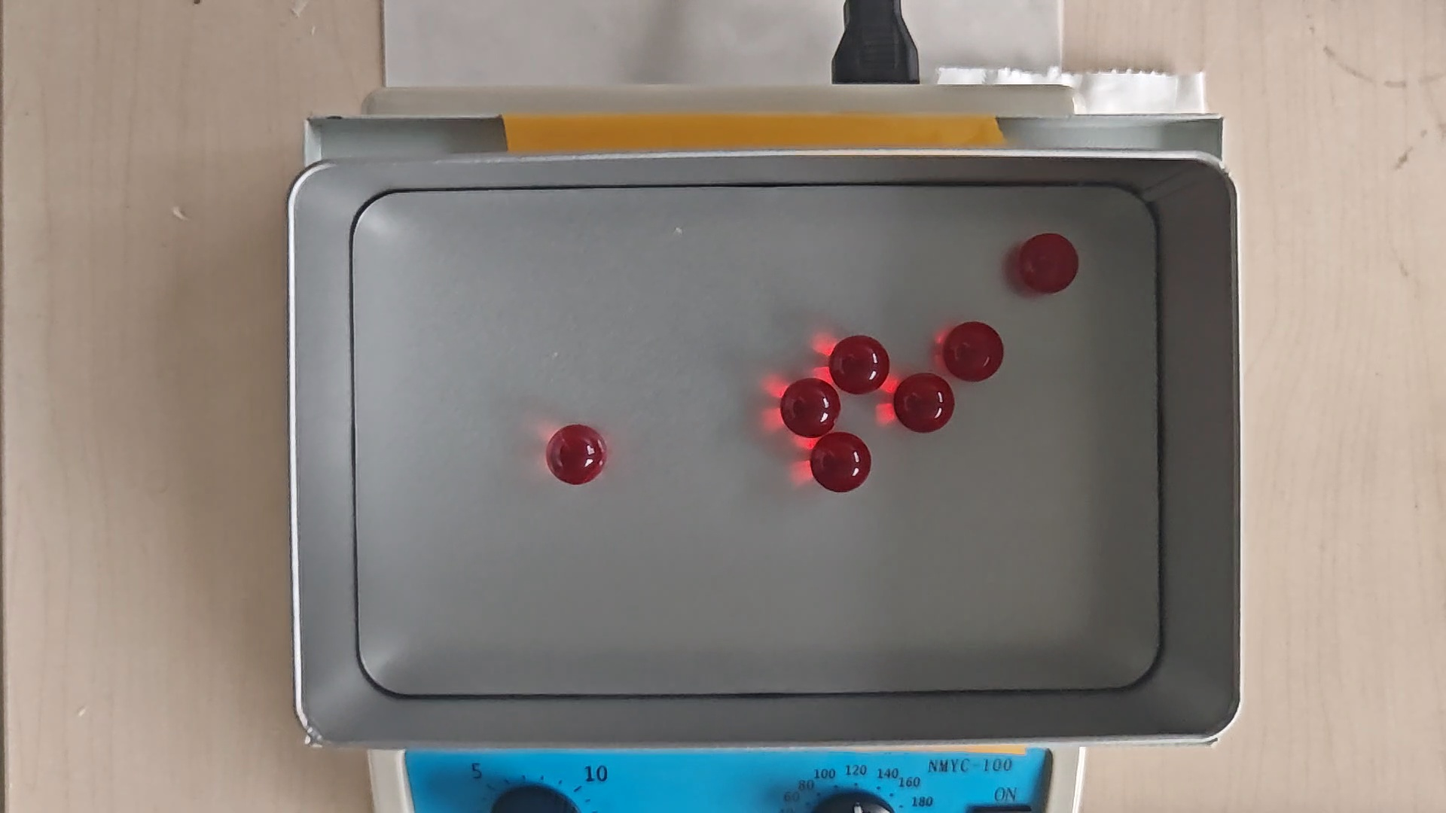ball: (892, 373, 955, 435), (828, 334, 890, 396), (943, 321, 1005, 383), (1017, 233, 1080, 294), (545, 425, 607, 486), (779, 377, 840, 438), (810, 434, 871, 493)
container: (351, 186, 1160, 693)
